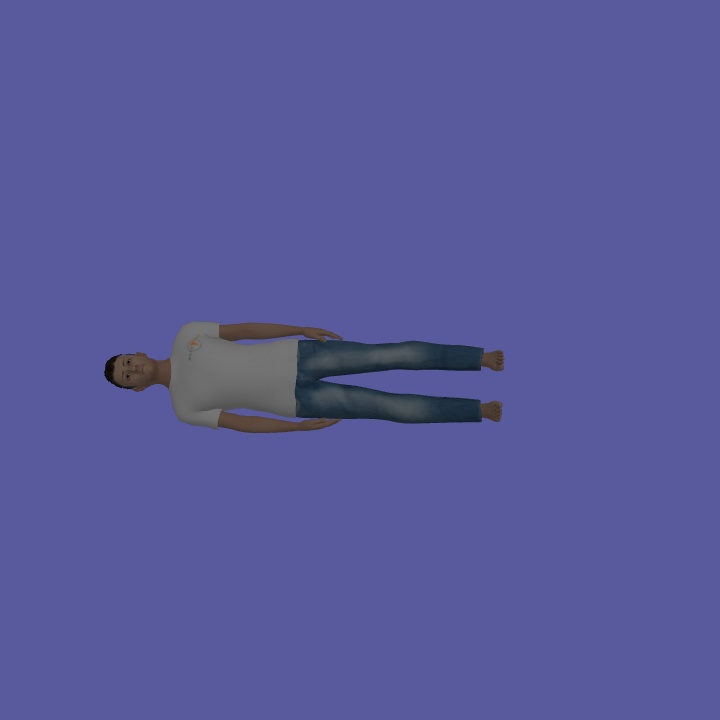victim: (100, 316, 505, 433)
